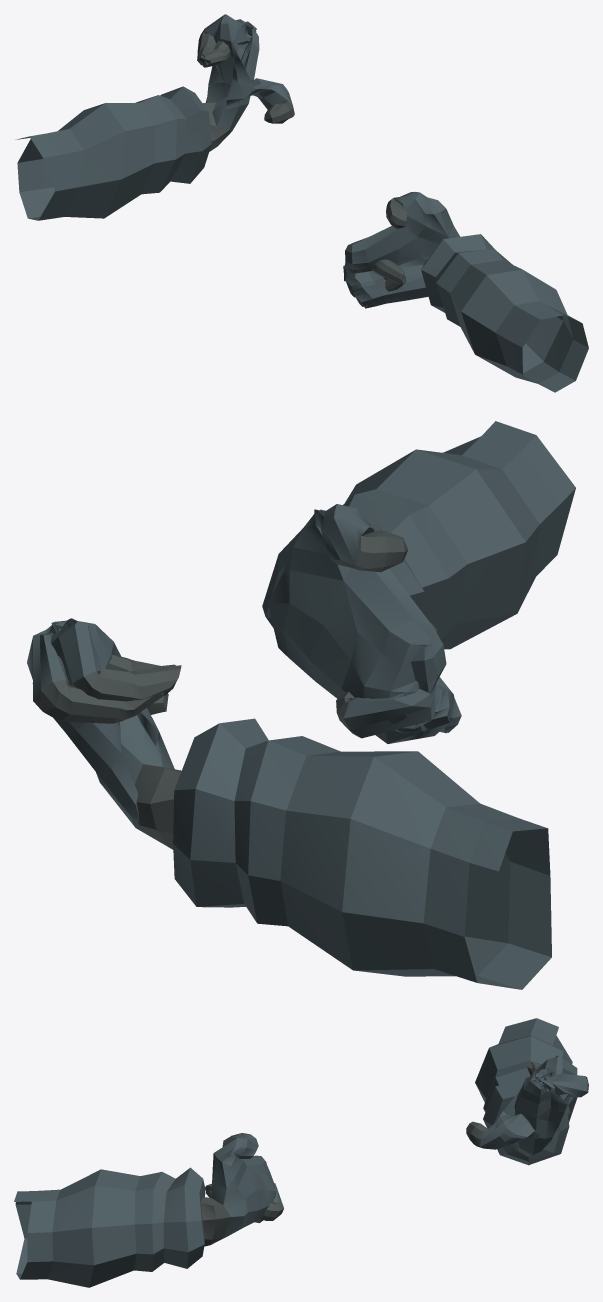
Rendered from hands.glb.
The picture shows the model from 3 angles, top to bottom: view 1: azimuth 30°, elevation 25°; view 2: azimuth 150°, elevation 25°; view 3: azimuth 270°, elevation 25°; orthographic projection. The views are drawn at different scales.
Visible parts, largest first — view 1: SupportHand, TriggerHand; view 2: SupportHand, TriggerHand; view 3: TriggerHand, SupportHand.
Boxes of the visible parts, x1=… form: SupportHand: x1=15, y1=14, x2=294, y2=220; TriggerHand: x1=343, y1=192, x2=588, y2=392; SupportHand: x1=27, y1=618, x2=551, y2=989; TriggerHand: x1=262, y1=421, x2=575, y2=743; TriggerHand: x1=14, y1=1133, x2=283, y2=1287; SupportHand: x1=466, y1=1018, x2=588, y2=1165.
Bounding box in the file's own units: 0.439 × 0.2659 × 0.6956.
